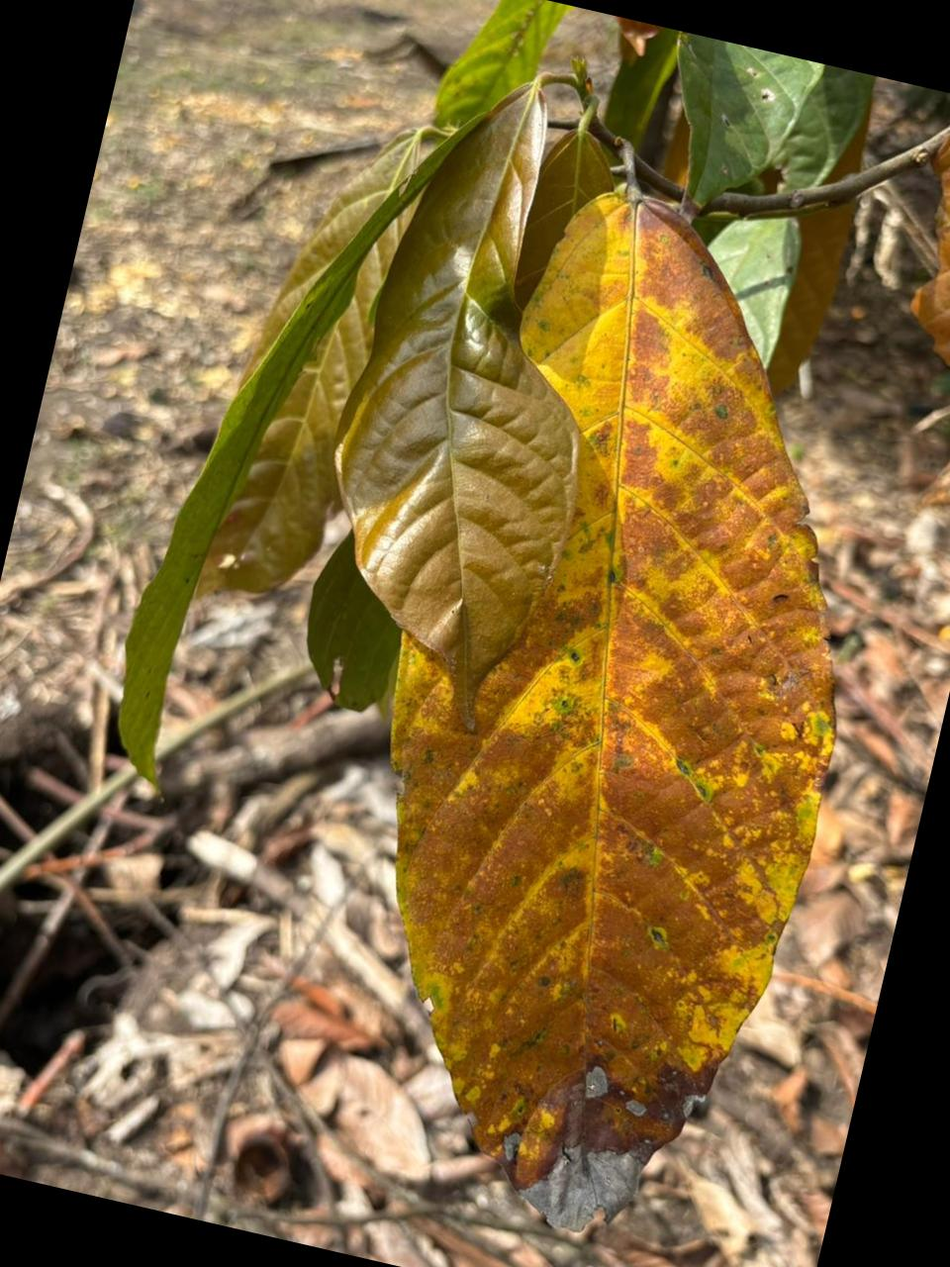Fosforo: (393, 196, 832, 1227)
